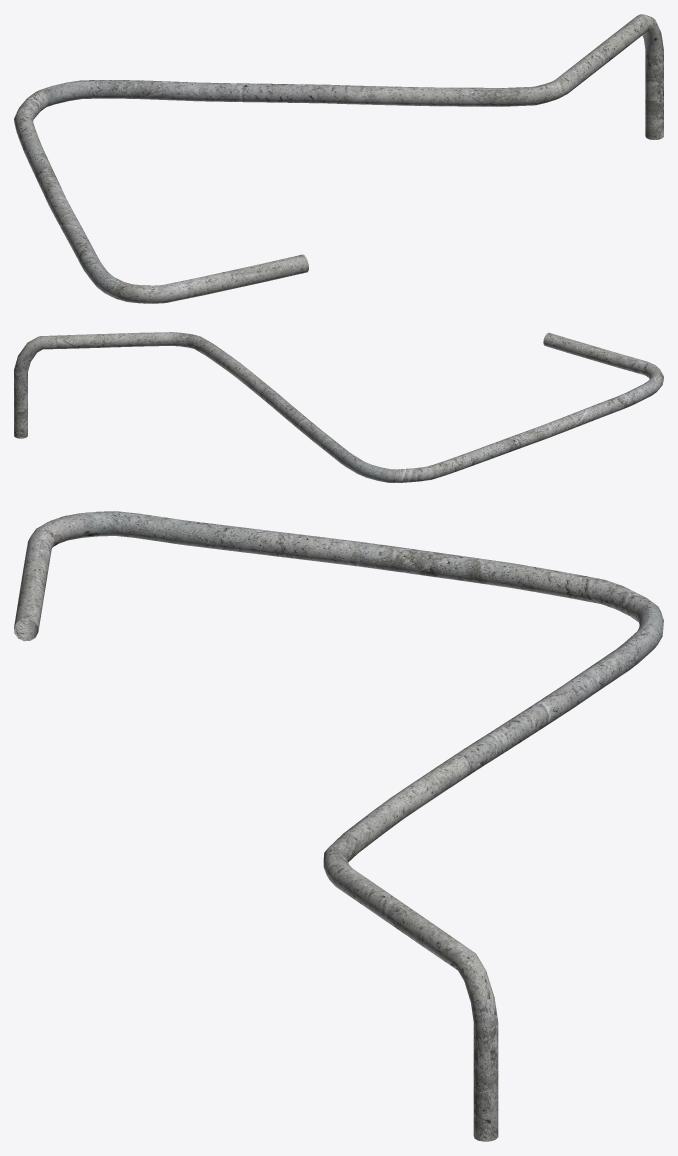
3 renders of one model, top to bottom at view 1: azimuth 30°, elevation 25°; view 2: azimuth 150°, elevation 25°; view 3: azimuth 270°, elevation 25°, orthographic. The views are drawn at different scales.
Visible parts, largest first — view 1: 4.002; view 2: 4.002; view 3: 4.002.
Boxes of the visible parts, x1=… form: 4.002: x1=14, y1=14, x2=663, y2=303; 4.002: x1=14, y1=332, x2=663, y2=482; 4.002: x1=14, y1=511, x2=663, y2=1141.
Size of the model in its own units: 5375 by 991 by 3240.
